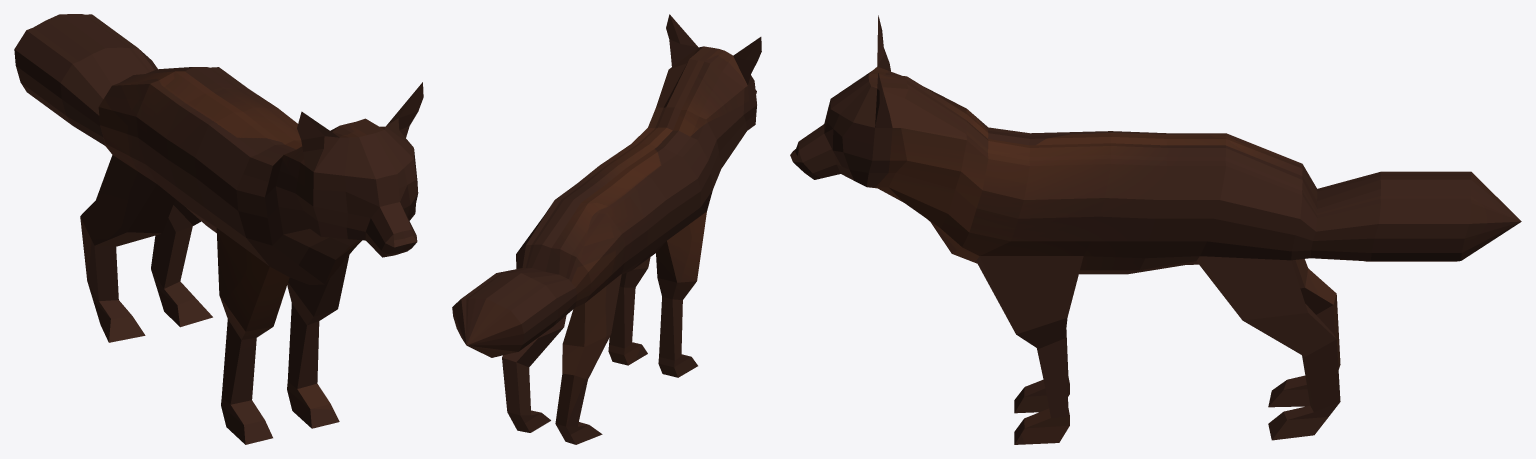
The model's file is fox_textured.fbx.
The picture shows the model from 3 angles, left to right: view 1: azimuth 30°, elevation 25°; view 2: azimuth 150°, elevation 25°; view 3: azimuth 270°, elevation 25°; orthographic projection. The views are drawn at different scales.
Parts seen in each view (by area): view 1: foxy; view 2: foxy; view 3: foxy.
Part boxes in pixels (bbox=[...]): foxy: bbox=[14, 14, 423, 444]; foxy: bbox=[452, 14, 761, 444]; foxy: bbox=[790, 15, 1521, 444].
Size of the model in its own units: 3.35 by 9.8 by 17.12.
